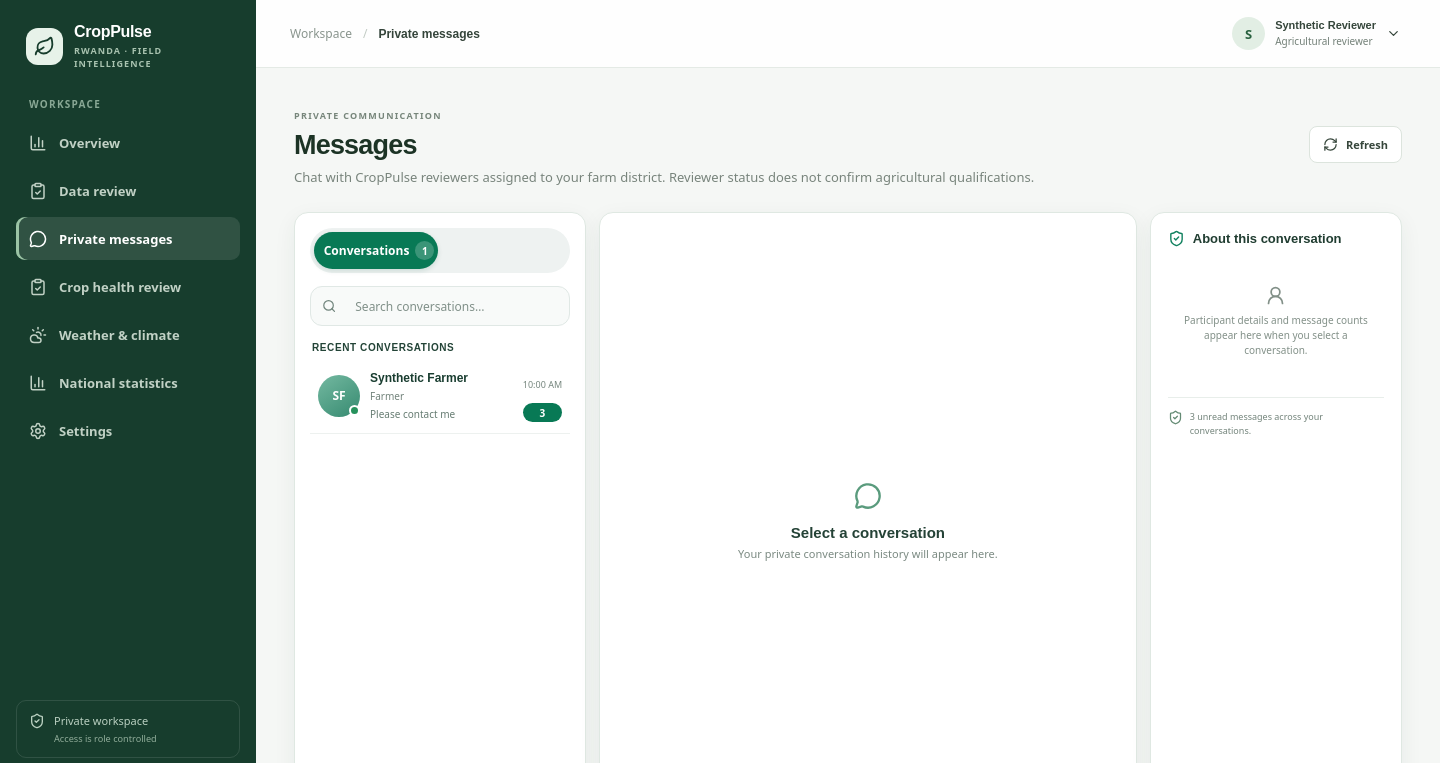
Test: React authentication and role navigation › shows persisted unread counts to reviewers and exposes messaging load errors
Click the button "SF Synthetic Farmer Farmer Please contact me 10:00 AM 3": click(339, 396) [310, 358, 570, 434]
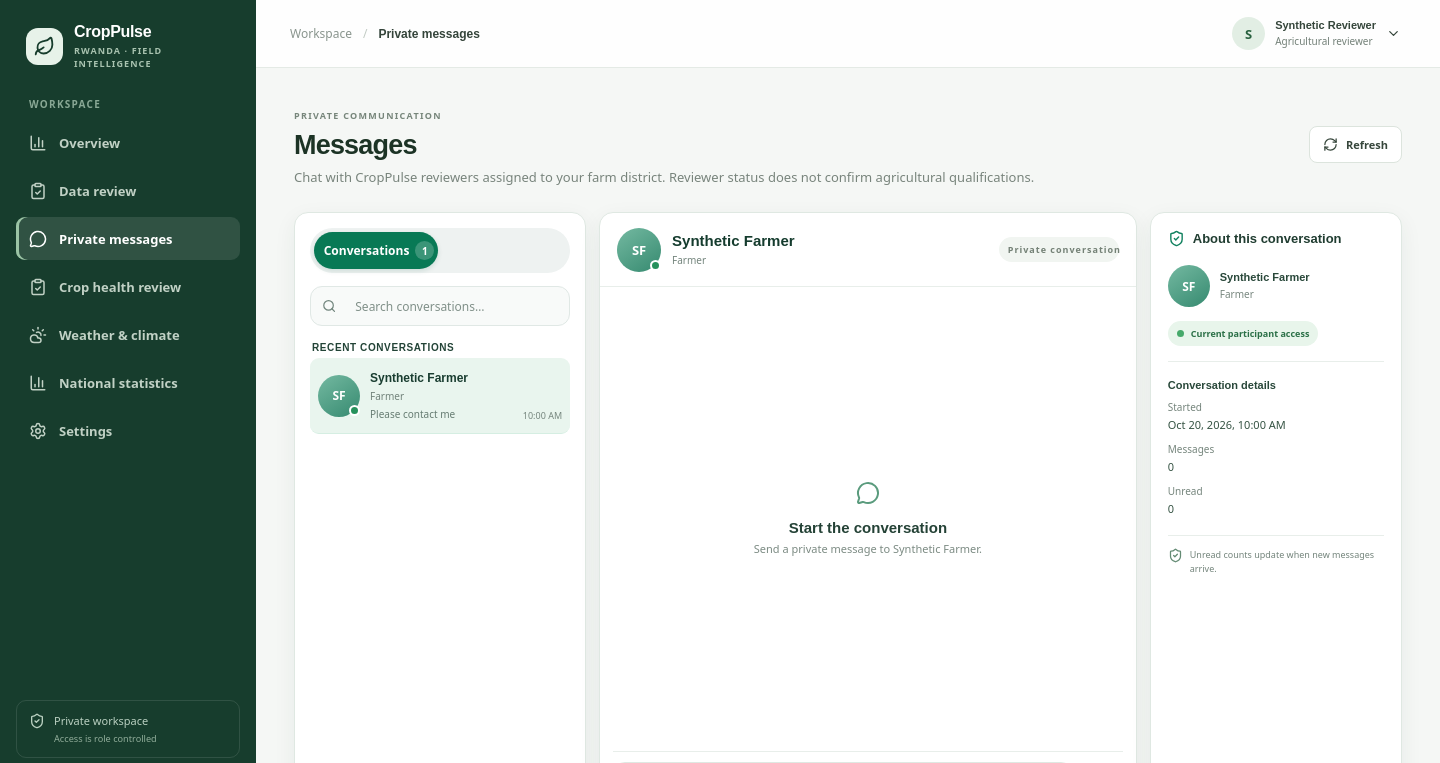
Expected: the heading "Synthetic Farmer" is shown, [672, 232, 795, 249]
Expected: the text "3 unread messages" is gone
